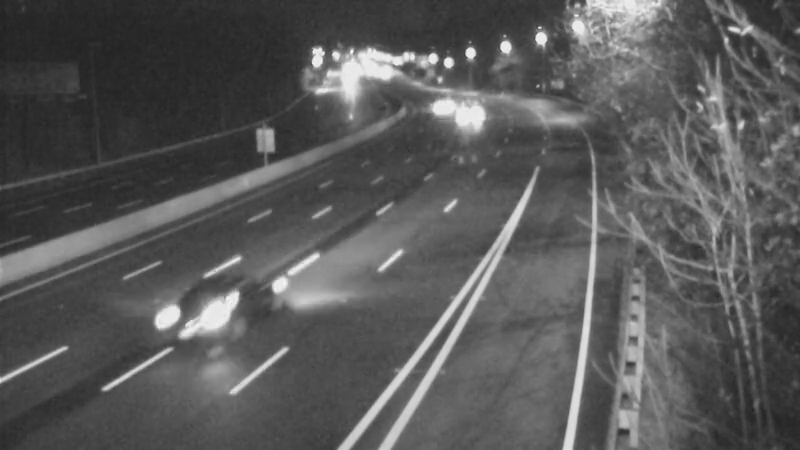vehicle: (139, 265, 249, 375), (413, 81, 463, 131), (443, 89, 493, 139)
